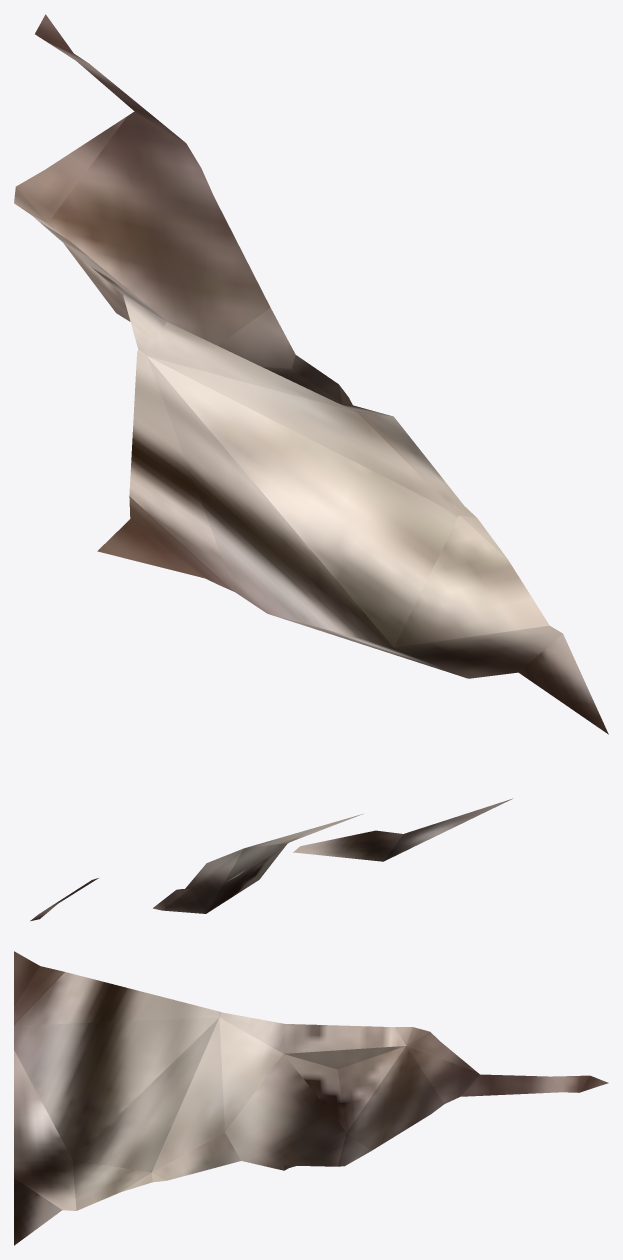
3 renders of one model, top to bottom at view 1: azimuth 30°, elevation 25°; view 2: azimuth 150°, elevation 25°; view 3: azimuth 270°, elevation 25°, orthographic. The views are drawn at different scales.
Bounding box in the file's own units: 0.2512 × 0.1446 × 0.4789.
1 material, 1 textured.
